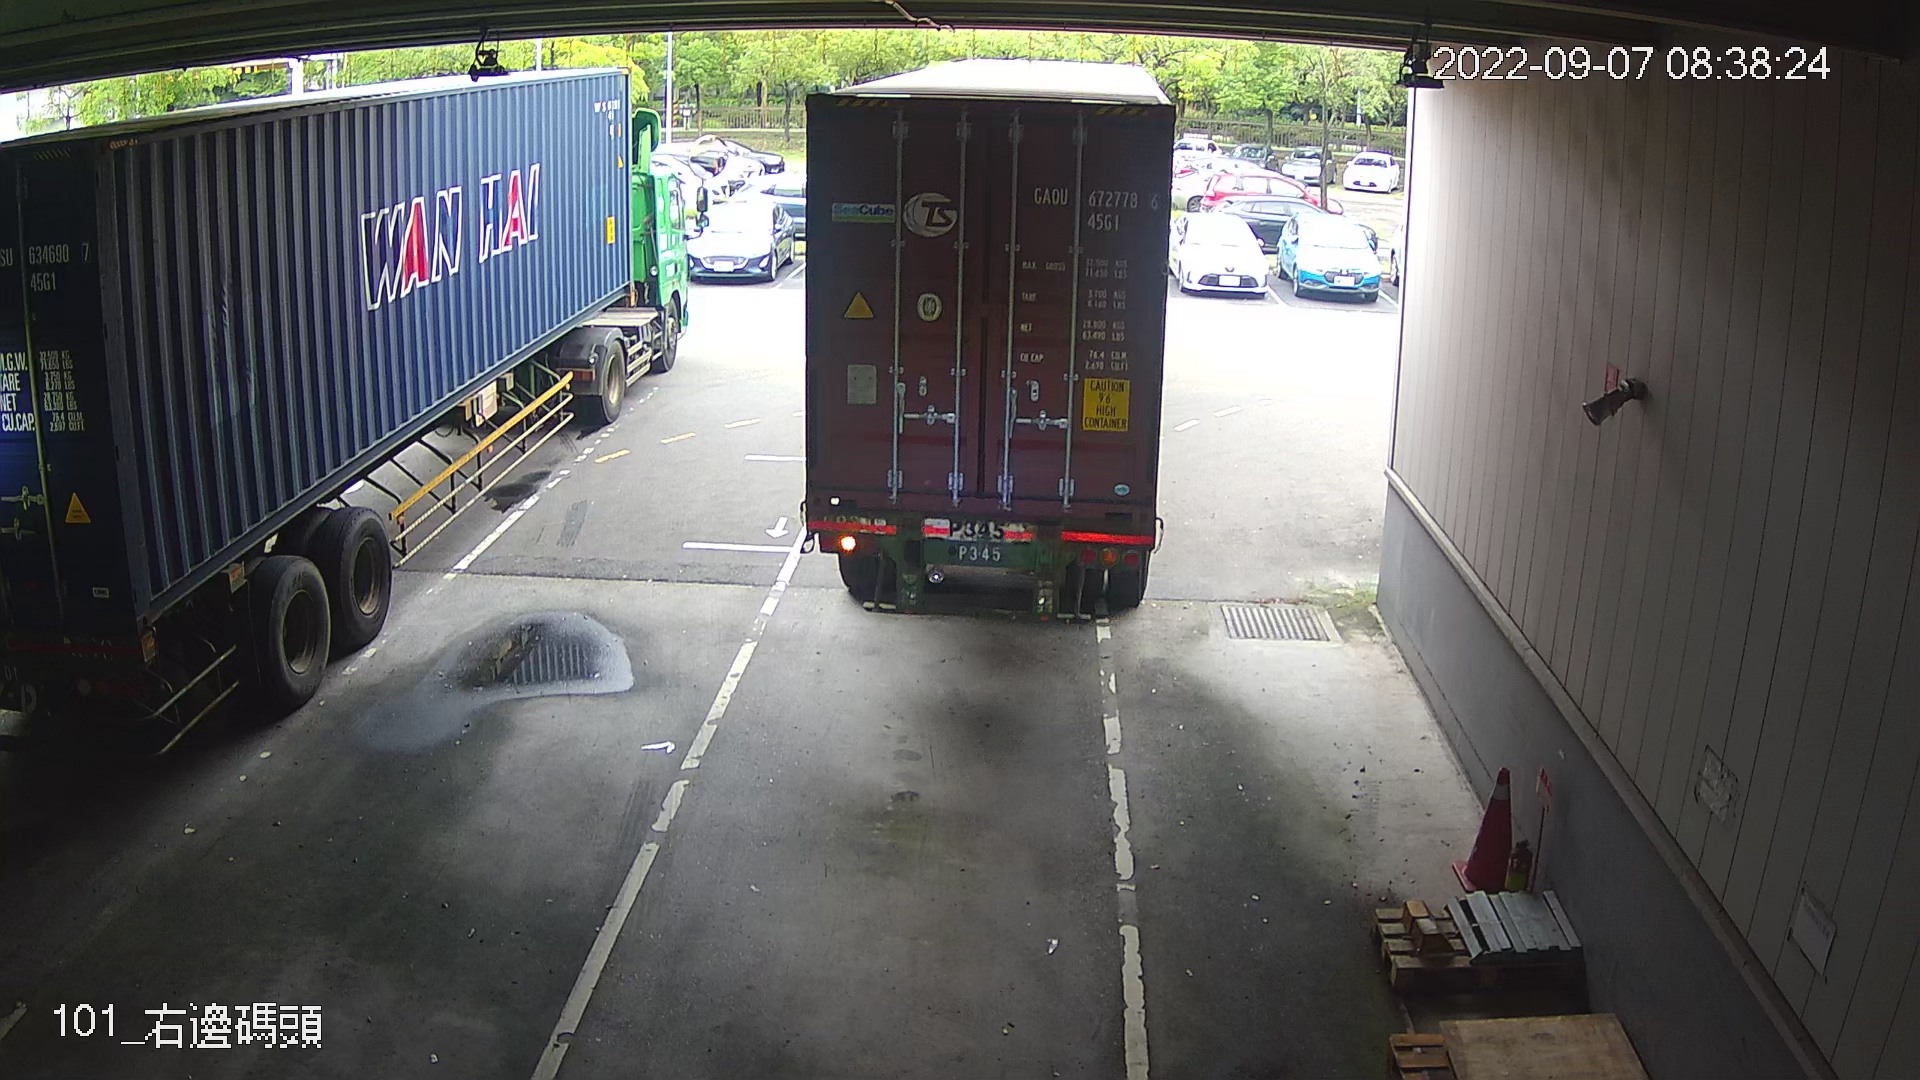container: (1026, 179, 1164, 237)
